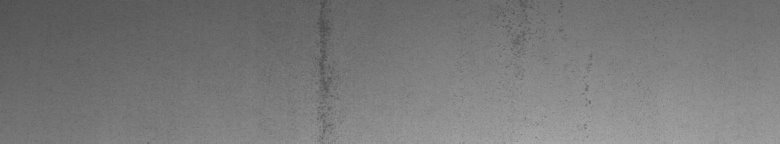ib: (496, 4, 591, 131)
